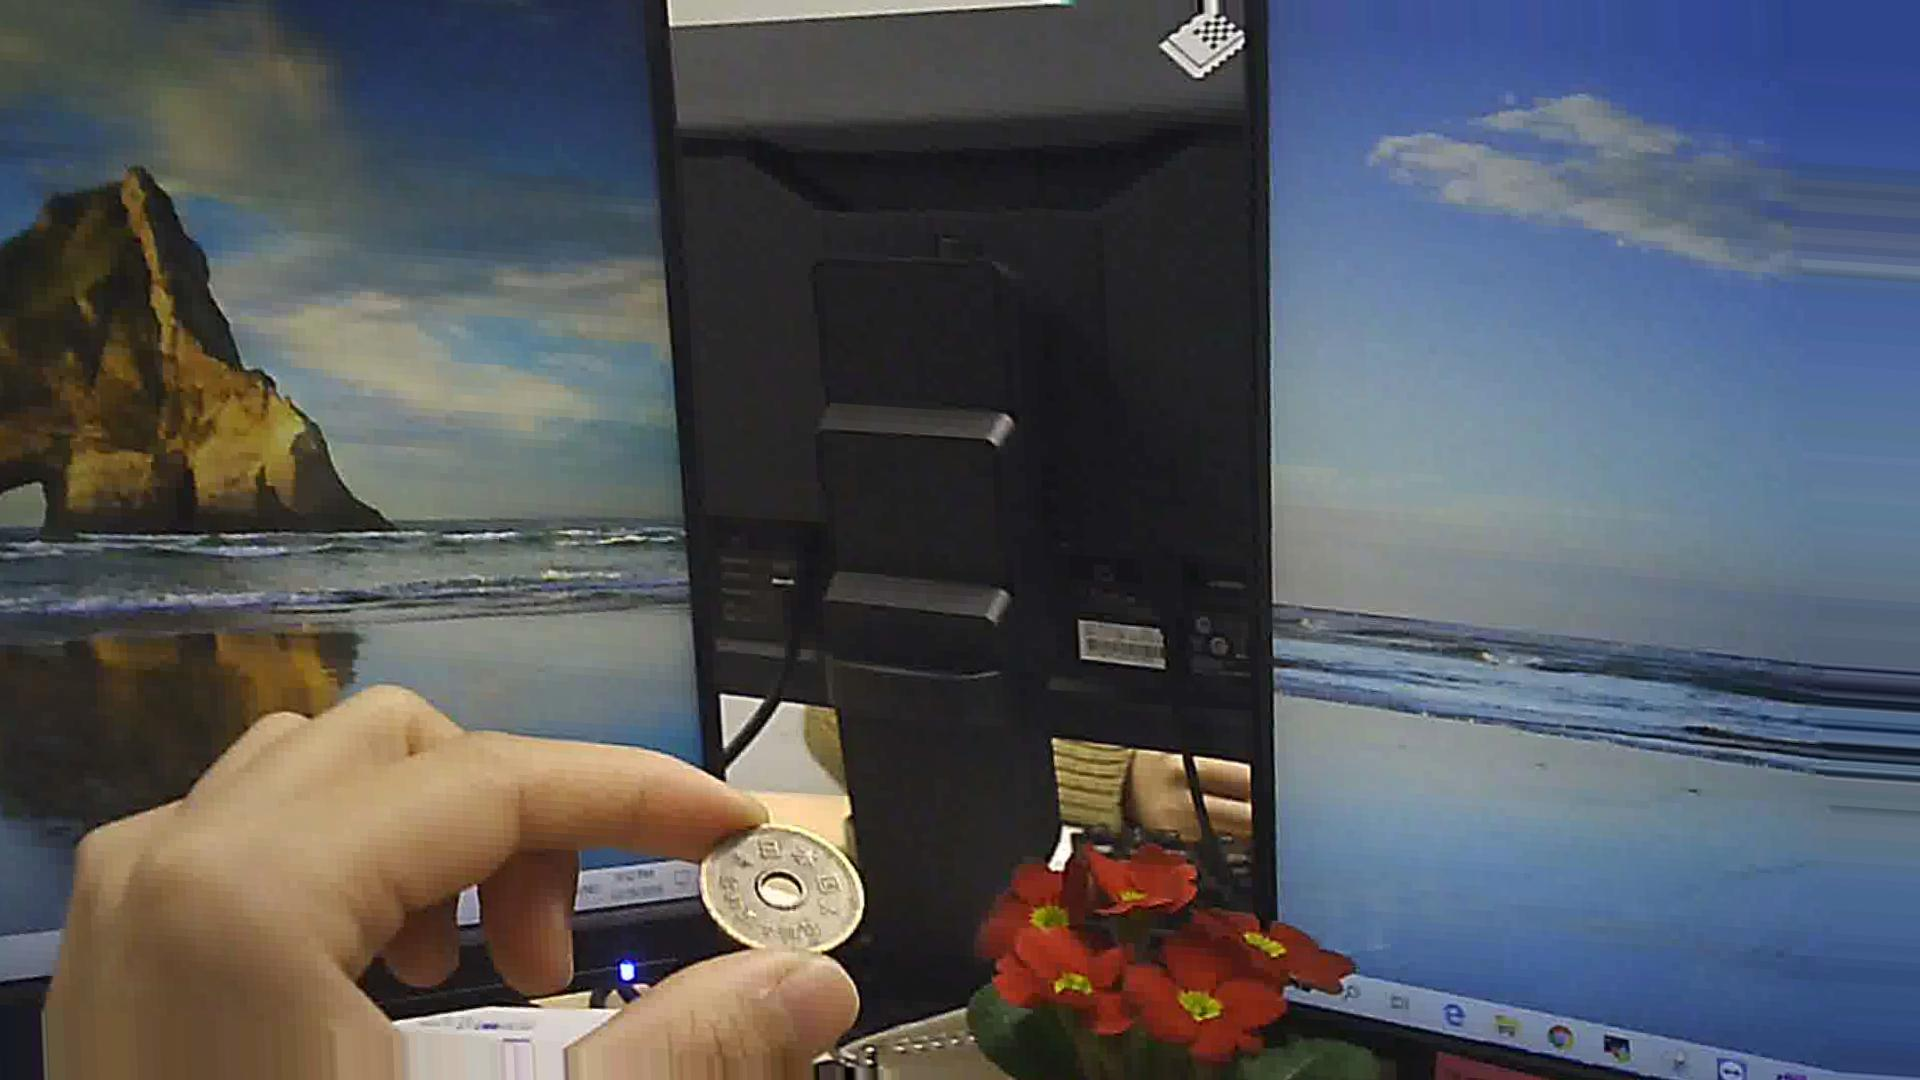5 Yen: (675, 807, 889, 977)
